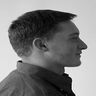ear: (31, 33, 52, 55)
